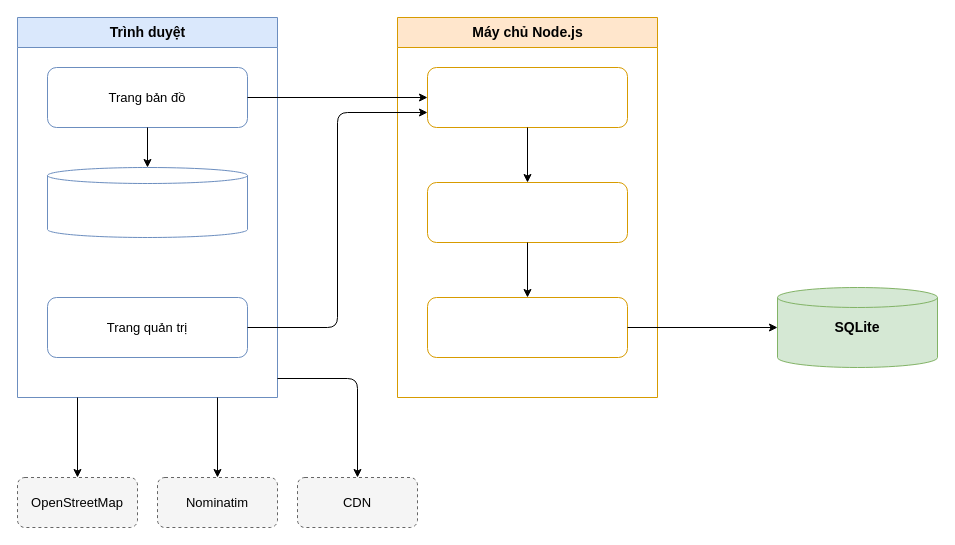
This 955x545 diagram has some shape labels left out. The shapes that lost their labels are listed below. From the top down, each one's centre as x and y in pixels, then its label:
At pixel 527 97: "Bảo mật".
At pixel 147 202: "localStorage".
At pixel 527 212: "Xác thực, phân quyền".
At pixel 527 327: "REST API".
